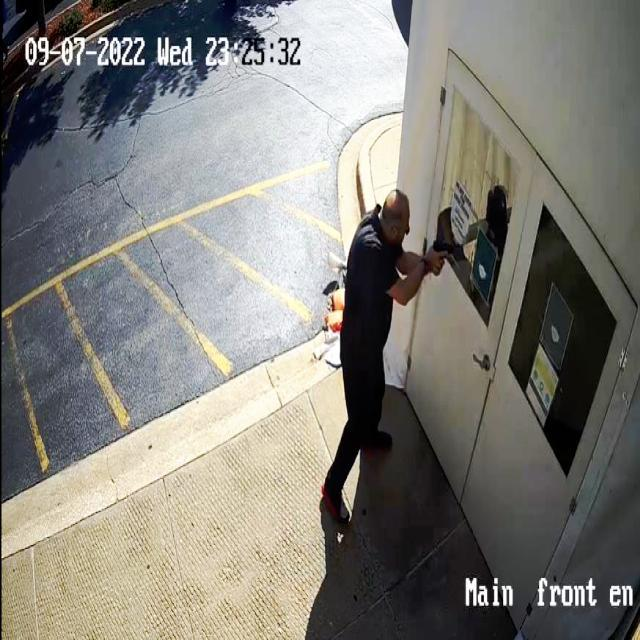Gun: (422, 231, 465, 266)
